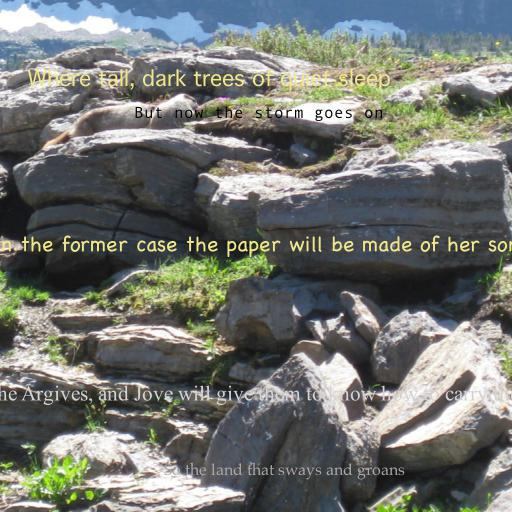Andale Mono: (134, 106, 384, 122)
Chalkboard: (0, 235, 512, 258)
Geneva: (27, 69, 391, 91)
Palatino: (163, 462, 405, 480)
Times New Roman: (0, 385, 512, 406)
